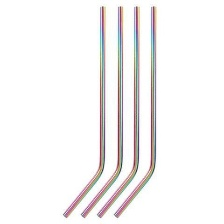drinking_straw: (56, 3, 110, 220)
